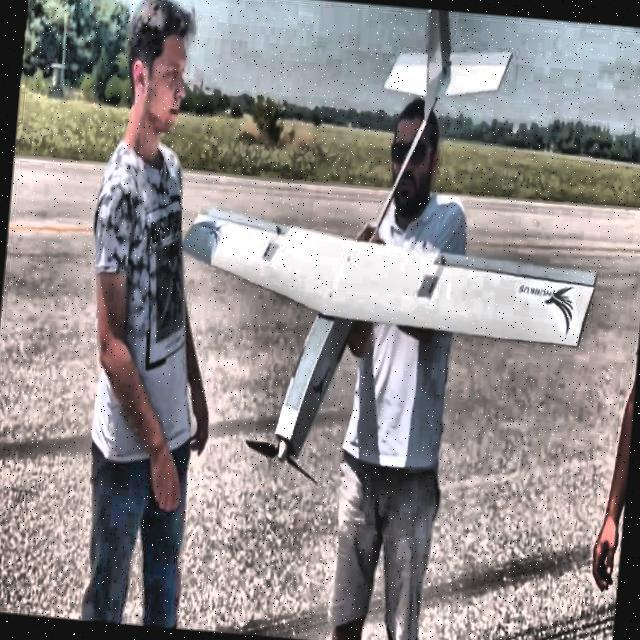iha: (154, 0, 621, 502)
